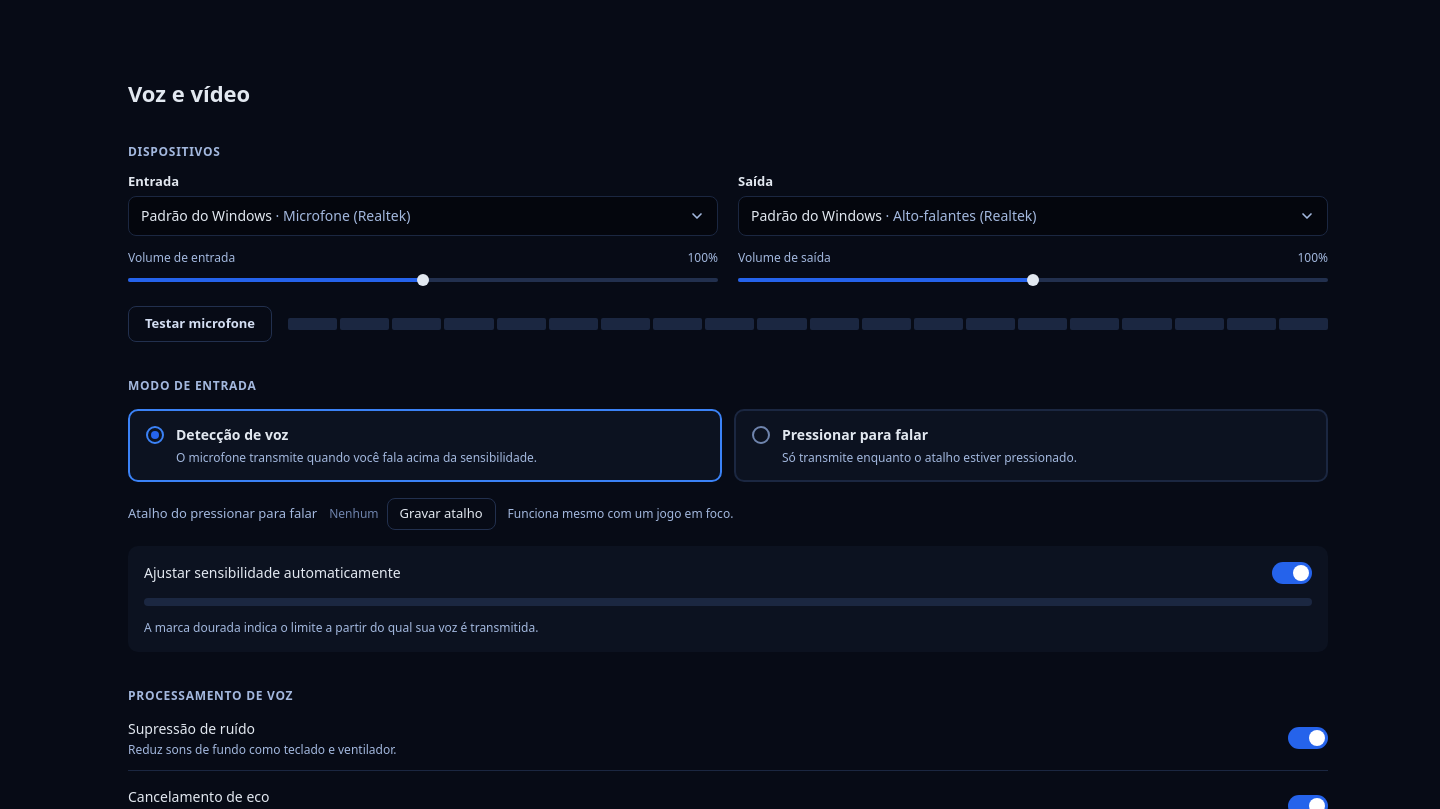
Test: Voz e vídeo › a supressão de ruído começa ligada; desligar guarda neste computador
This screenshot has width=1440, height=809.
Click the switch named "Supressão de ruído" in the row of "Supressão de ruído". click: (1308,738)
box: [1288,727,1328,749]
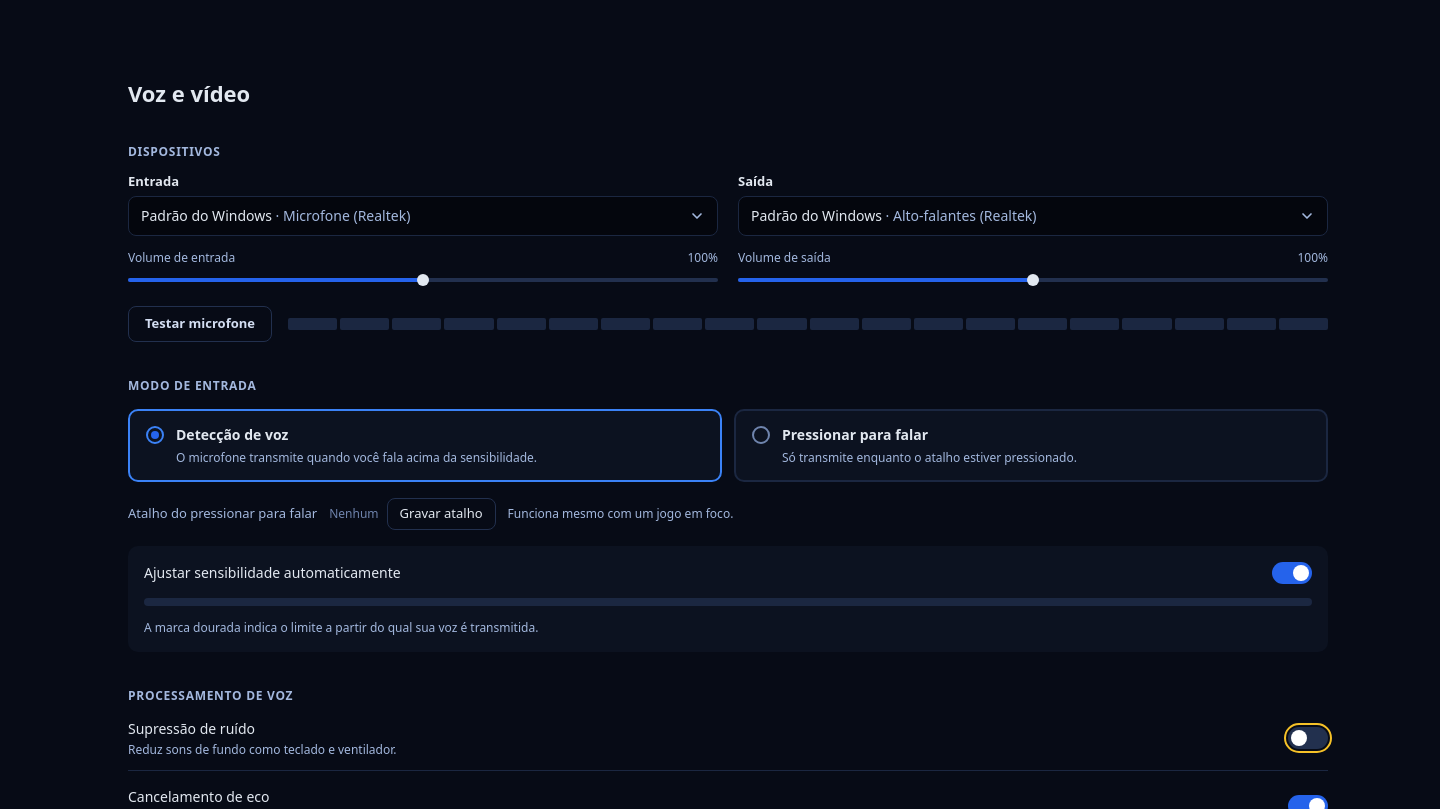
Expected: the switch named "Supressão de ruído" in the row of "Supressão de ruído" is not checked, [1288,727,1328,749]
